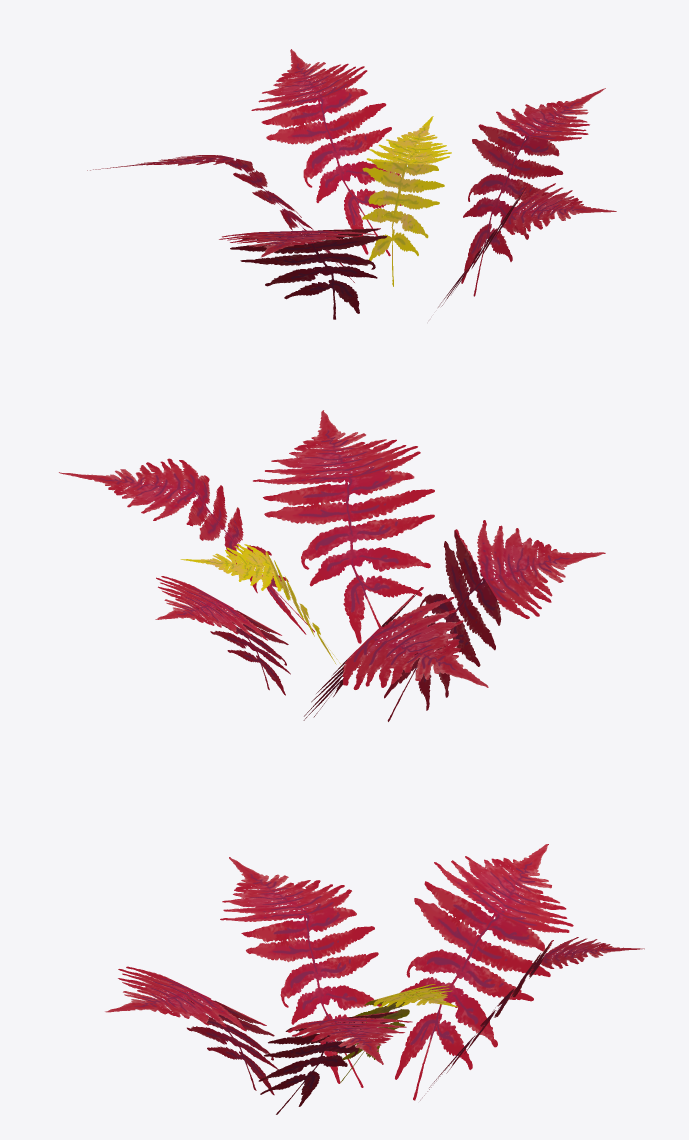
File: fern.fbx
3 renders of one model, top to bottom at view 1: azimuth 30°, elevation 25°; view 2: azimuth 150°, elevation 25°; view 3: azimuth 270°, elevation 25°, orthographic. The views are drawn at different scales.
Visible parts, largest first — view 1: fern; view 2: fern; view 3: fern.
Part boxes in pixels (bbox=[...]): fern: bbox=[87, 49, 616, 319]; fern: bbox=[59, 410, 605, 721]; fern: bbox=[105, 844, 644, 1114].
Bounding box in the file's own units: 791 × 254 × 735.
Materials: 1 (1 with a texture image).
